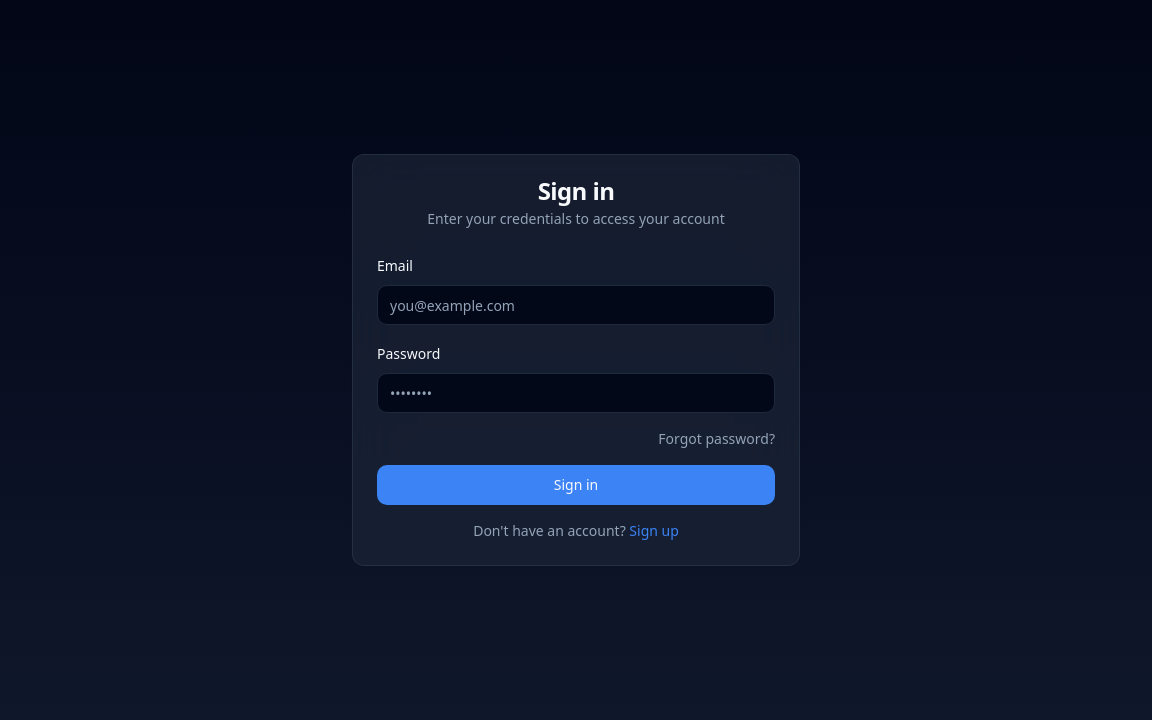
Scenario: LoginPage › client-side validation › shows error for invalid email format
In the field labelled "Email": (576, 305) [377,285,775,325], type "not-an-email"
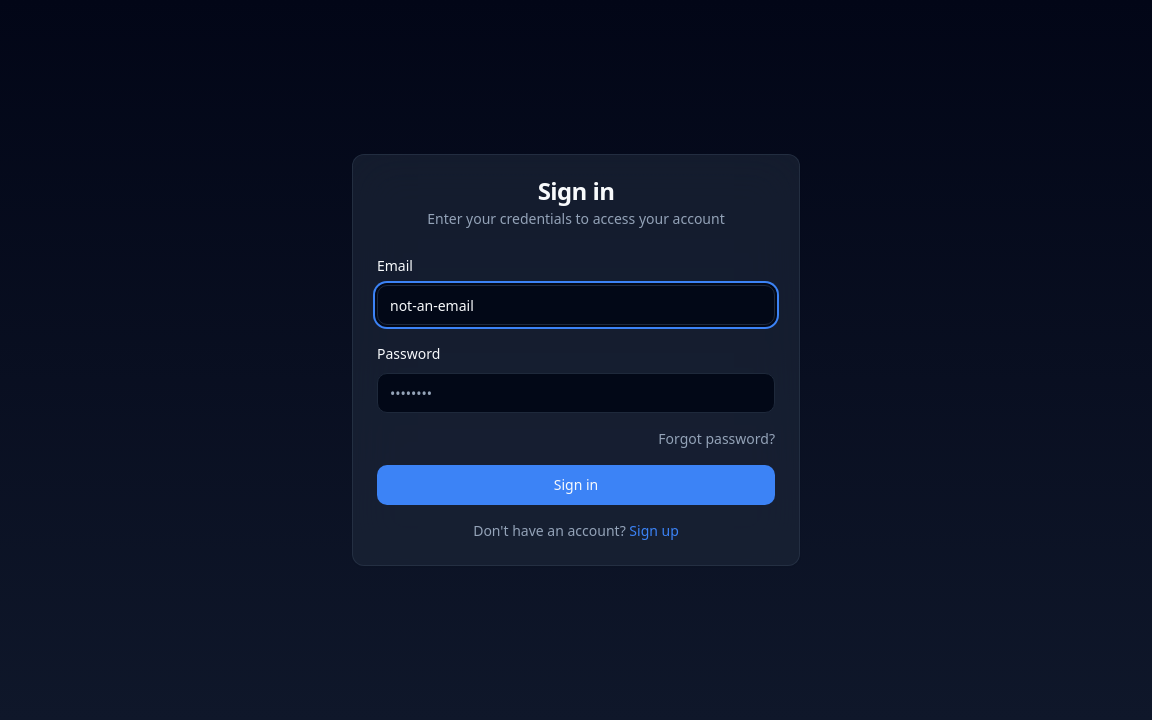
In the password field labelled "Password": (576, 393) [377,373,775,413], type "password123"
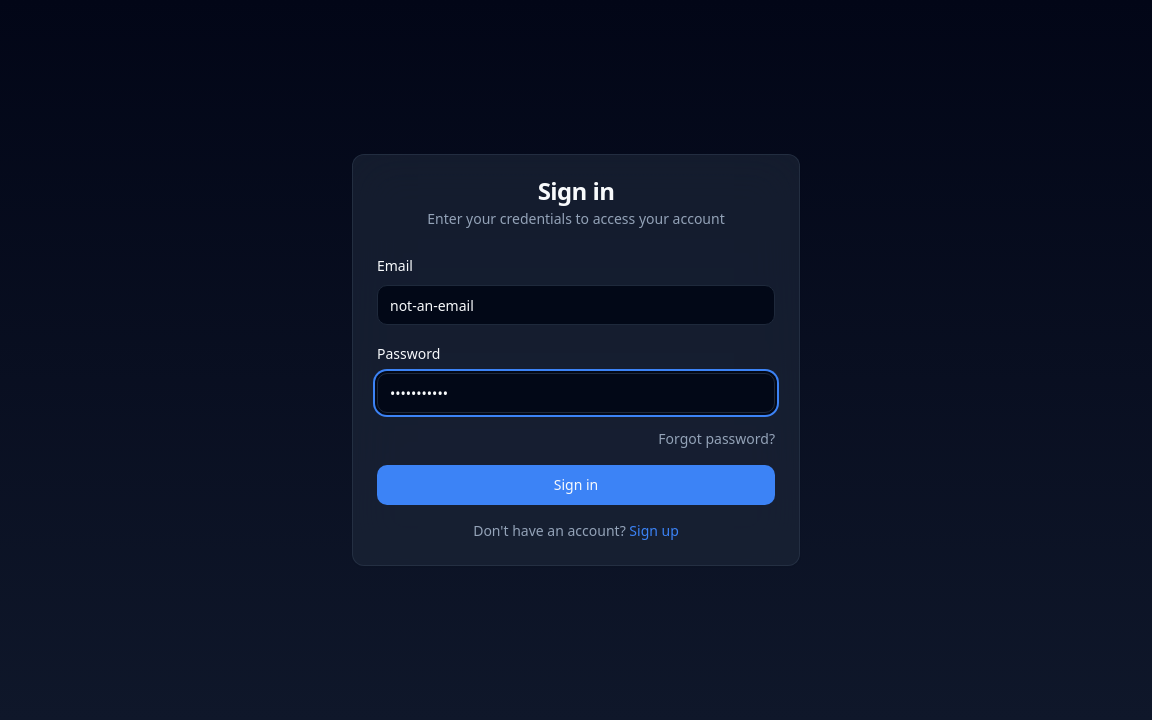
Click the button "Sign in": (576, 485) [377,465,775,505]
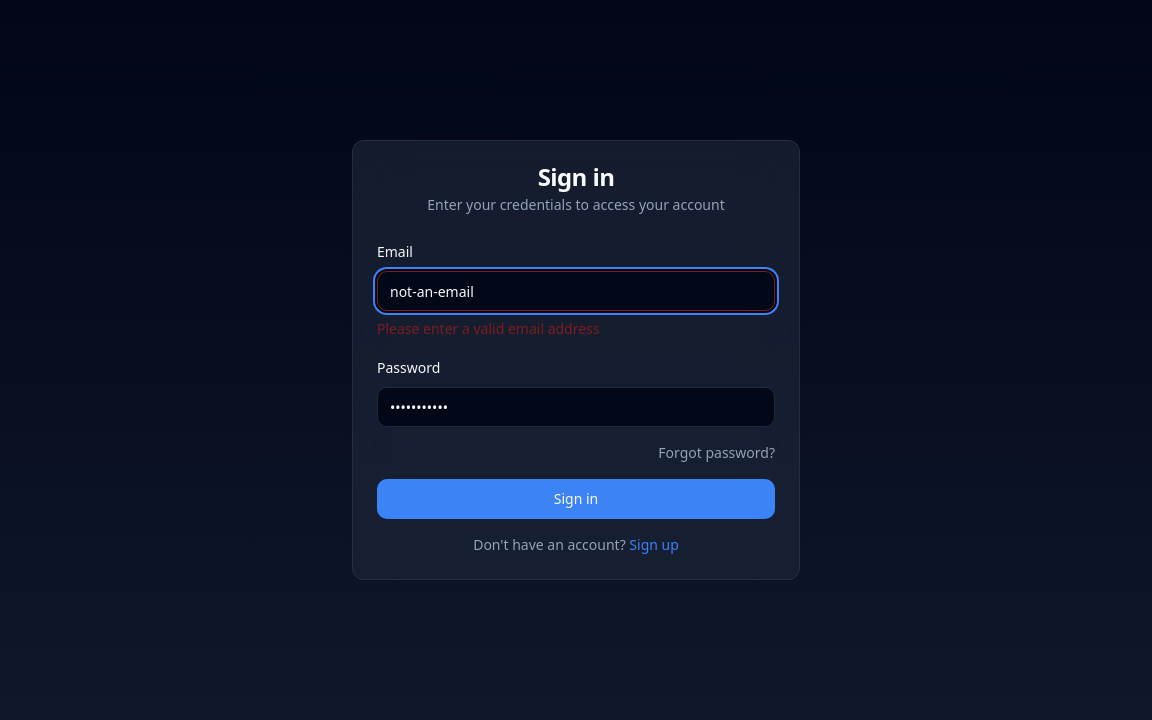
Check: the text "Please enter a valid email address" is shown, box [377,319,600,338]
